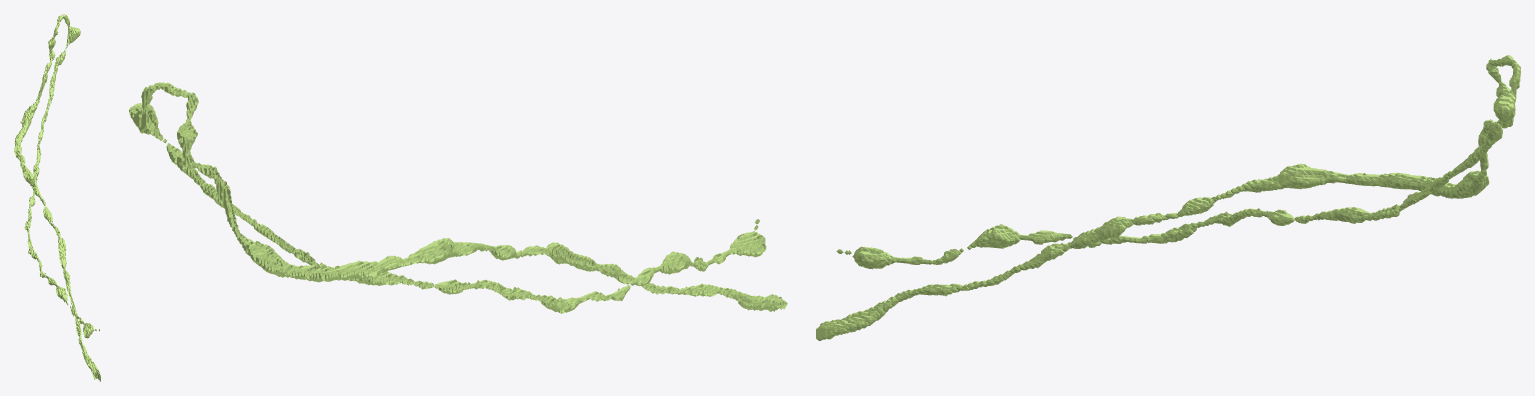
The model's file is SVV_SIAVR.gltf.
3 views of the same model, side by side, from view 1: azimuth 30°, elevation 25°; view 2: azimuth 150°, elevation 25°; view 3: azimuth 270°, elevation 25° (orthographic). The views are drawn at different scales.
Visible parts, largest first — view 1: SIAVR; view 2: SIAVR; view 3: SIAVR.
Boxes of the visible parts, x1,y1,x2,y2 form: SIAVR: (14,14,100,381); SIAVR: (129,82,787,313); SIAVR: (816,55,1520,340).
Bounding box in the file's own units: 97263 × 122688 × 189255.
